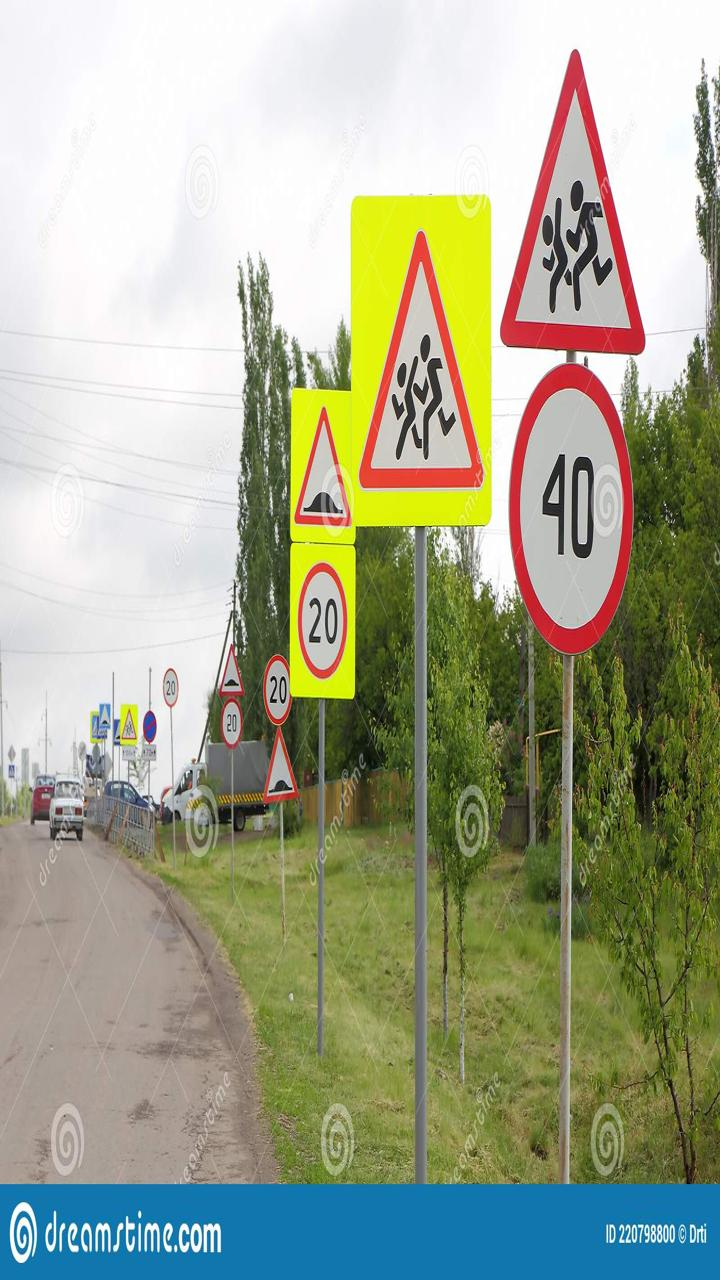Traffic sign: (506, 40, 660, 375), (341, 186, 495, 521), (504, 358, 648, 661), (278, 378, 363, 543), (283, 533, 368, 698), (261, 729, 315, 831), (262, 655, 299, 736), (217, 699, 251, 753), (215, 641, 249, 695), (155, 655, 189, 709), (134, 707, 168, 761)
vehicle: (50, 777, 94, 848), (23, 768, 67, 839)
